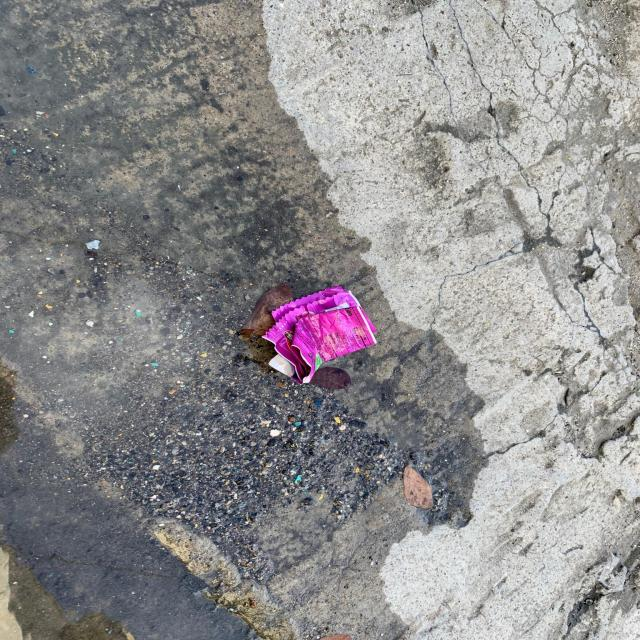litter: (261, 285, 378, 385)
